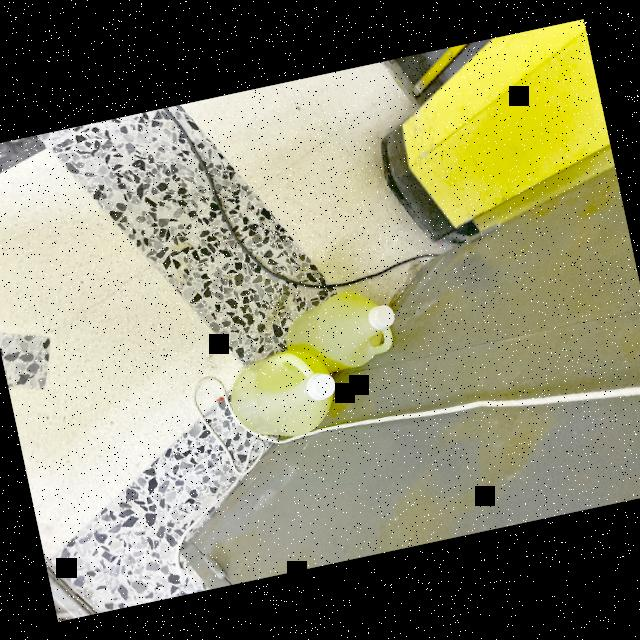chemical_plastic_gallon: (202, 333, 367, 461), (266, 260, 415, 380)
